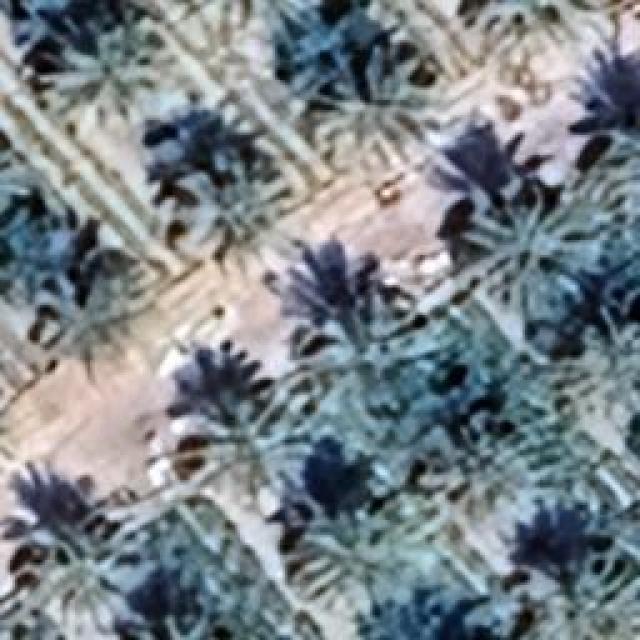PalmTree: (292, 295, 440, 440), (310, 39, 470, 172), (170, 384, 315, 518), (460, 195, 610, 323), (0, 194, 125, 332), (40, 14, 180, 128), (422, 427, 542, 545), (29, 518, 152, 632), (462, 0, 616, 85), (294, 502, 398, 616), (166, 144, 282, 246), (520, 550, 638, 638), (568, 48, 640, 187), (558, 312, 638, 420), (160, 0, 325, 52), (39, 264, 128, 358), (135, 602, 243, 640), (0, 133, 31, 219)
